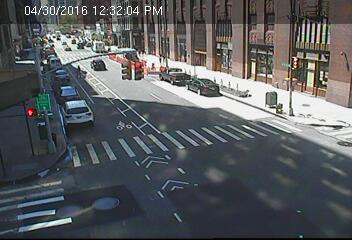neg: (225, 68, 238, 85), (164, 34, 175, 49), (252, 80, 262, 94), (190, 50, 199, 63), (67, 41, 76, 53), (86, 41, 95, 53), (217, 42, 226, 54), (132, 34, 140, 45), (178, 45, 186, 56), (189, 80, 197, 91), (76, 43, 83, 53), (108, 41, 114, 49)
pos: (72, 63, 86, 81), (36, 48, 45, 60), (161, 54, 169, 65), (156, 52, 164, 63), (136, 48, 143, 58), (142, 48, 148, 57)
